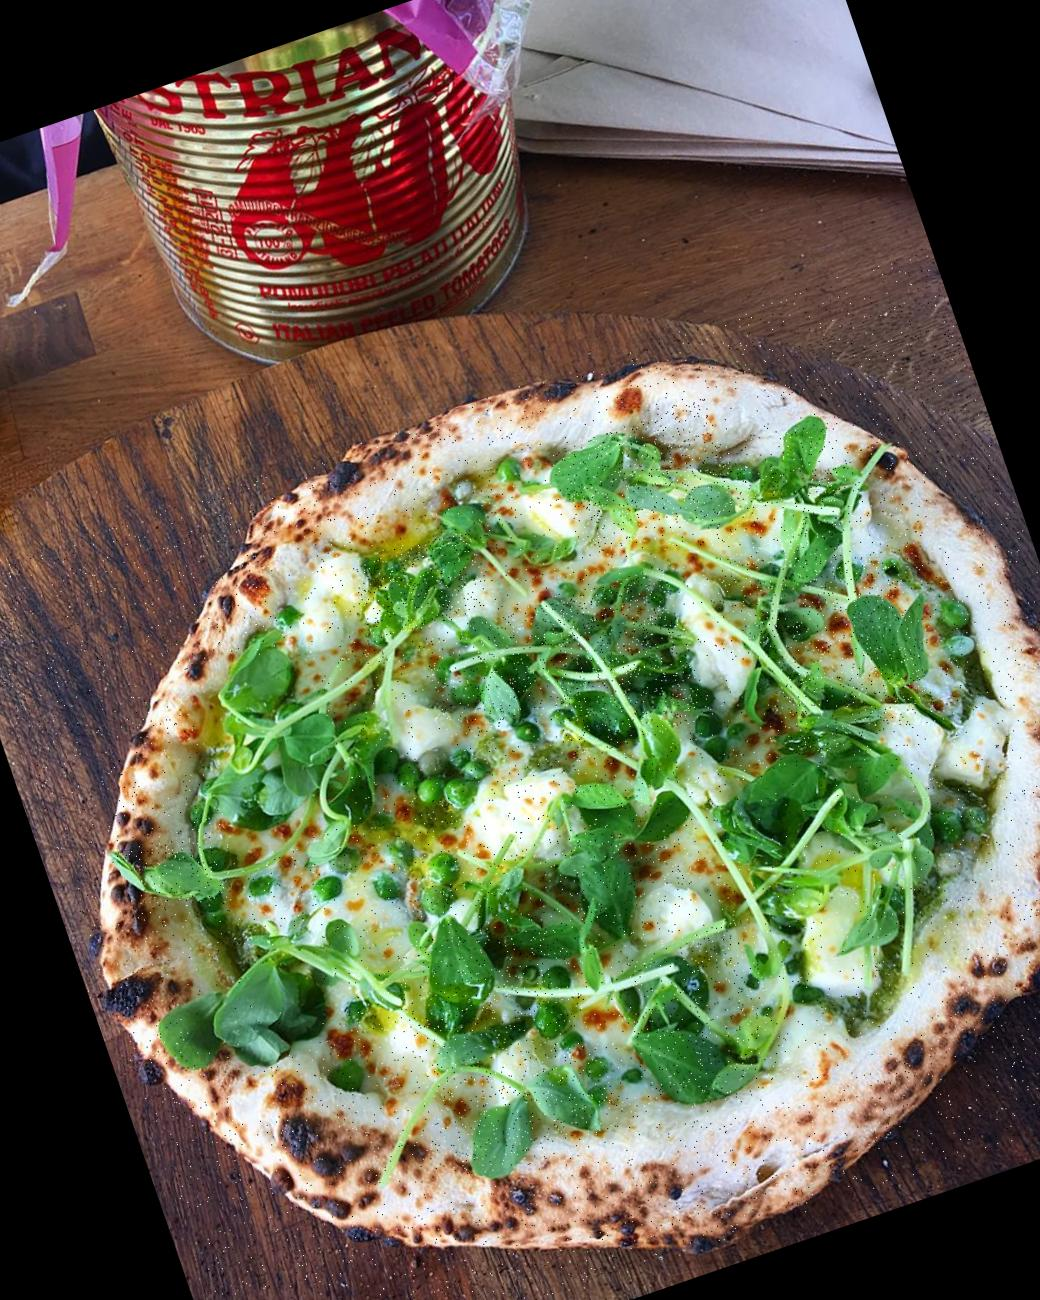Basil: (693, 416, 940, 764), (406, 743, 696, 993), (388, 903, 627, 1182), (722, 727, 949, 938), (180, 642, 360, 862), (521, 565, 714, 763), (607, 918, 795, 1109), (548, 399, 741, 558), (171, 919, 354, 1081), (350, 527, 497, 646), (419, 613, 547, 742), (115, 822, 235, 936)
Pizza: (0, 246, 1040, 1300)
